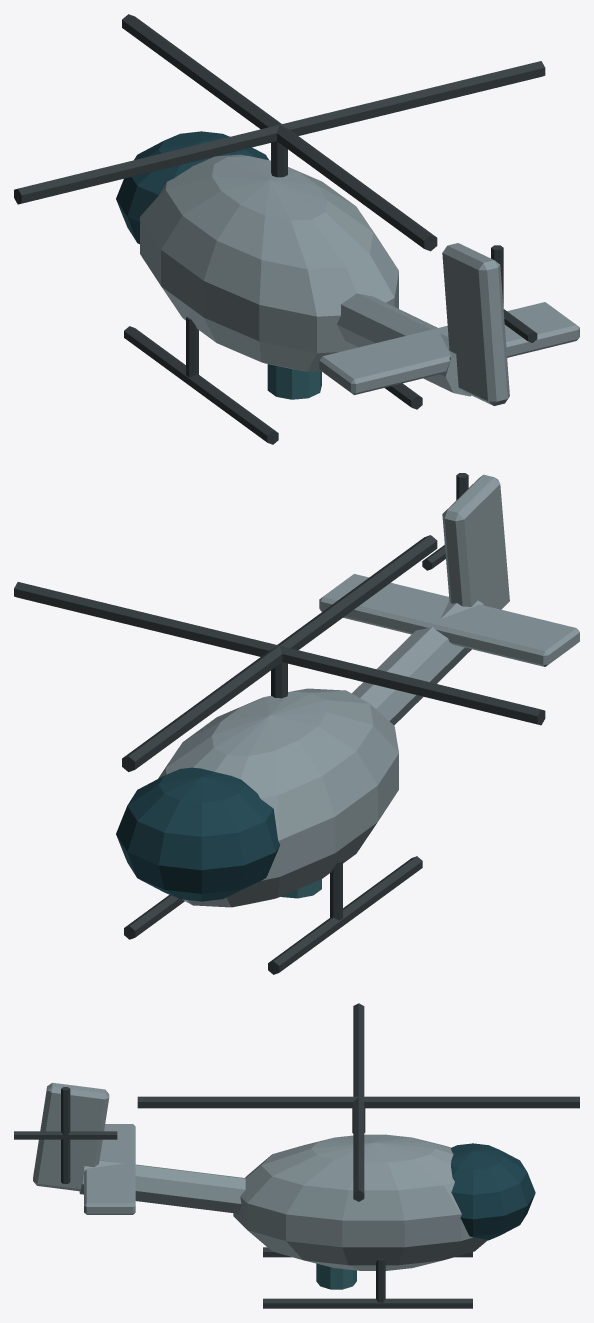
Rendered from HEL_Asw.fbx.
3 views of the same model, one above another, from view 1: azimuth 30°, elevation 25°; view 2: azimuth 150°, elevation 25°; view 3: azimuth 270°, elevation 25° (orthographic). The views are drawn at different scales.
Visible parts, largest first — view 1: Fuselage, MainRotorBlade_01, TailFin, HorizontalTail, MainRotorBlade_02, TailBoom, Cockpit, LandingSkid, DippingSonarPod, LandingStrut, RotorMast; view 2: Fuselage, Cockpit, HorizontalTail, MainRotorBlade_01, TailFin, MainRotorBlade_02, TailBoom, LandingSkid, LandingSkid.001, LandingStrut; view 3: Fuselage, Cockpit, MainRotorBlade_02, TailFin, TailBoom, HorizontalTail, MainRotorBlade_01, LandingSkid.001, TailBlade_A, TailBlade_B, DippingSonarPod, LandingStrut.001.
Boxes of the visible parts, box(x1,y1,x2,y2) form: Fuselage: box(140, 154, 398, 371); MainRotorBlade_01: box(14, 61, 545, 204); TailFin: box(442, 243, 509, 405); HorizontalTail: box(319, 302, 579, 395); MainRotorBlade_02: box(122, 14, 437, 251); TailBoom: box(337, 293, 471, 396); Cockpit: box(116, 131, 268, 244); LandingSkid: box(124, 326, 278, 444); DippingSonarPod: box(267, 364, 321, 399); LandingStrut: box(186, 316, 198, 377); RotorMast: box(271, 141, 287, 177); Fuselage: box(158, 688, 398, 907); Cockpit: box(116, 767, 280, 901); HorizontalTail: box(319, 574, 579, 666); MainRotorBlade_01: box(14, 582, 545, 725); TailFin: box(442, 474, 509, 609); MainRotorBlade_02: box(122, 535, 437, 771); TailBoom: box(352, 600, 483, 725); LandingSkid: box(268, 856, 422, 974); LandingSkid.001: box(124, 895, 184, 939); LandingStrut: box(330, 859, 342, 920); Fuselage: box(233, 1134, 487, 1270); Cockpit: box(451, 1143, 535, 1240); MainRotorBlade_02: box(137, 1096, 579, 1108); TailFin: box(33, 1082, 109, 1191); TailBoom: box(79, 1160, 245, 1213); HorizontalTail: box(84, 1124, 135, 1214); MainRotorBlade_01: box(353, 1003, 364, 1201); LandingSkid.001: box(263, 1298, 472, 1308); TailBlade_A: box(61, 1087, 70, 1183); TailBlade_B: box(14, 1131, 117, 1139); DippingSonarPod: box(316, 1263, 356, 1289); LandingStrut.001: box(376, 1259, 385, 1302).
Size of the model in its own units: 240 by 120 by 307.
